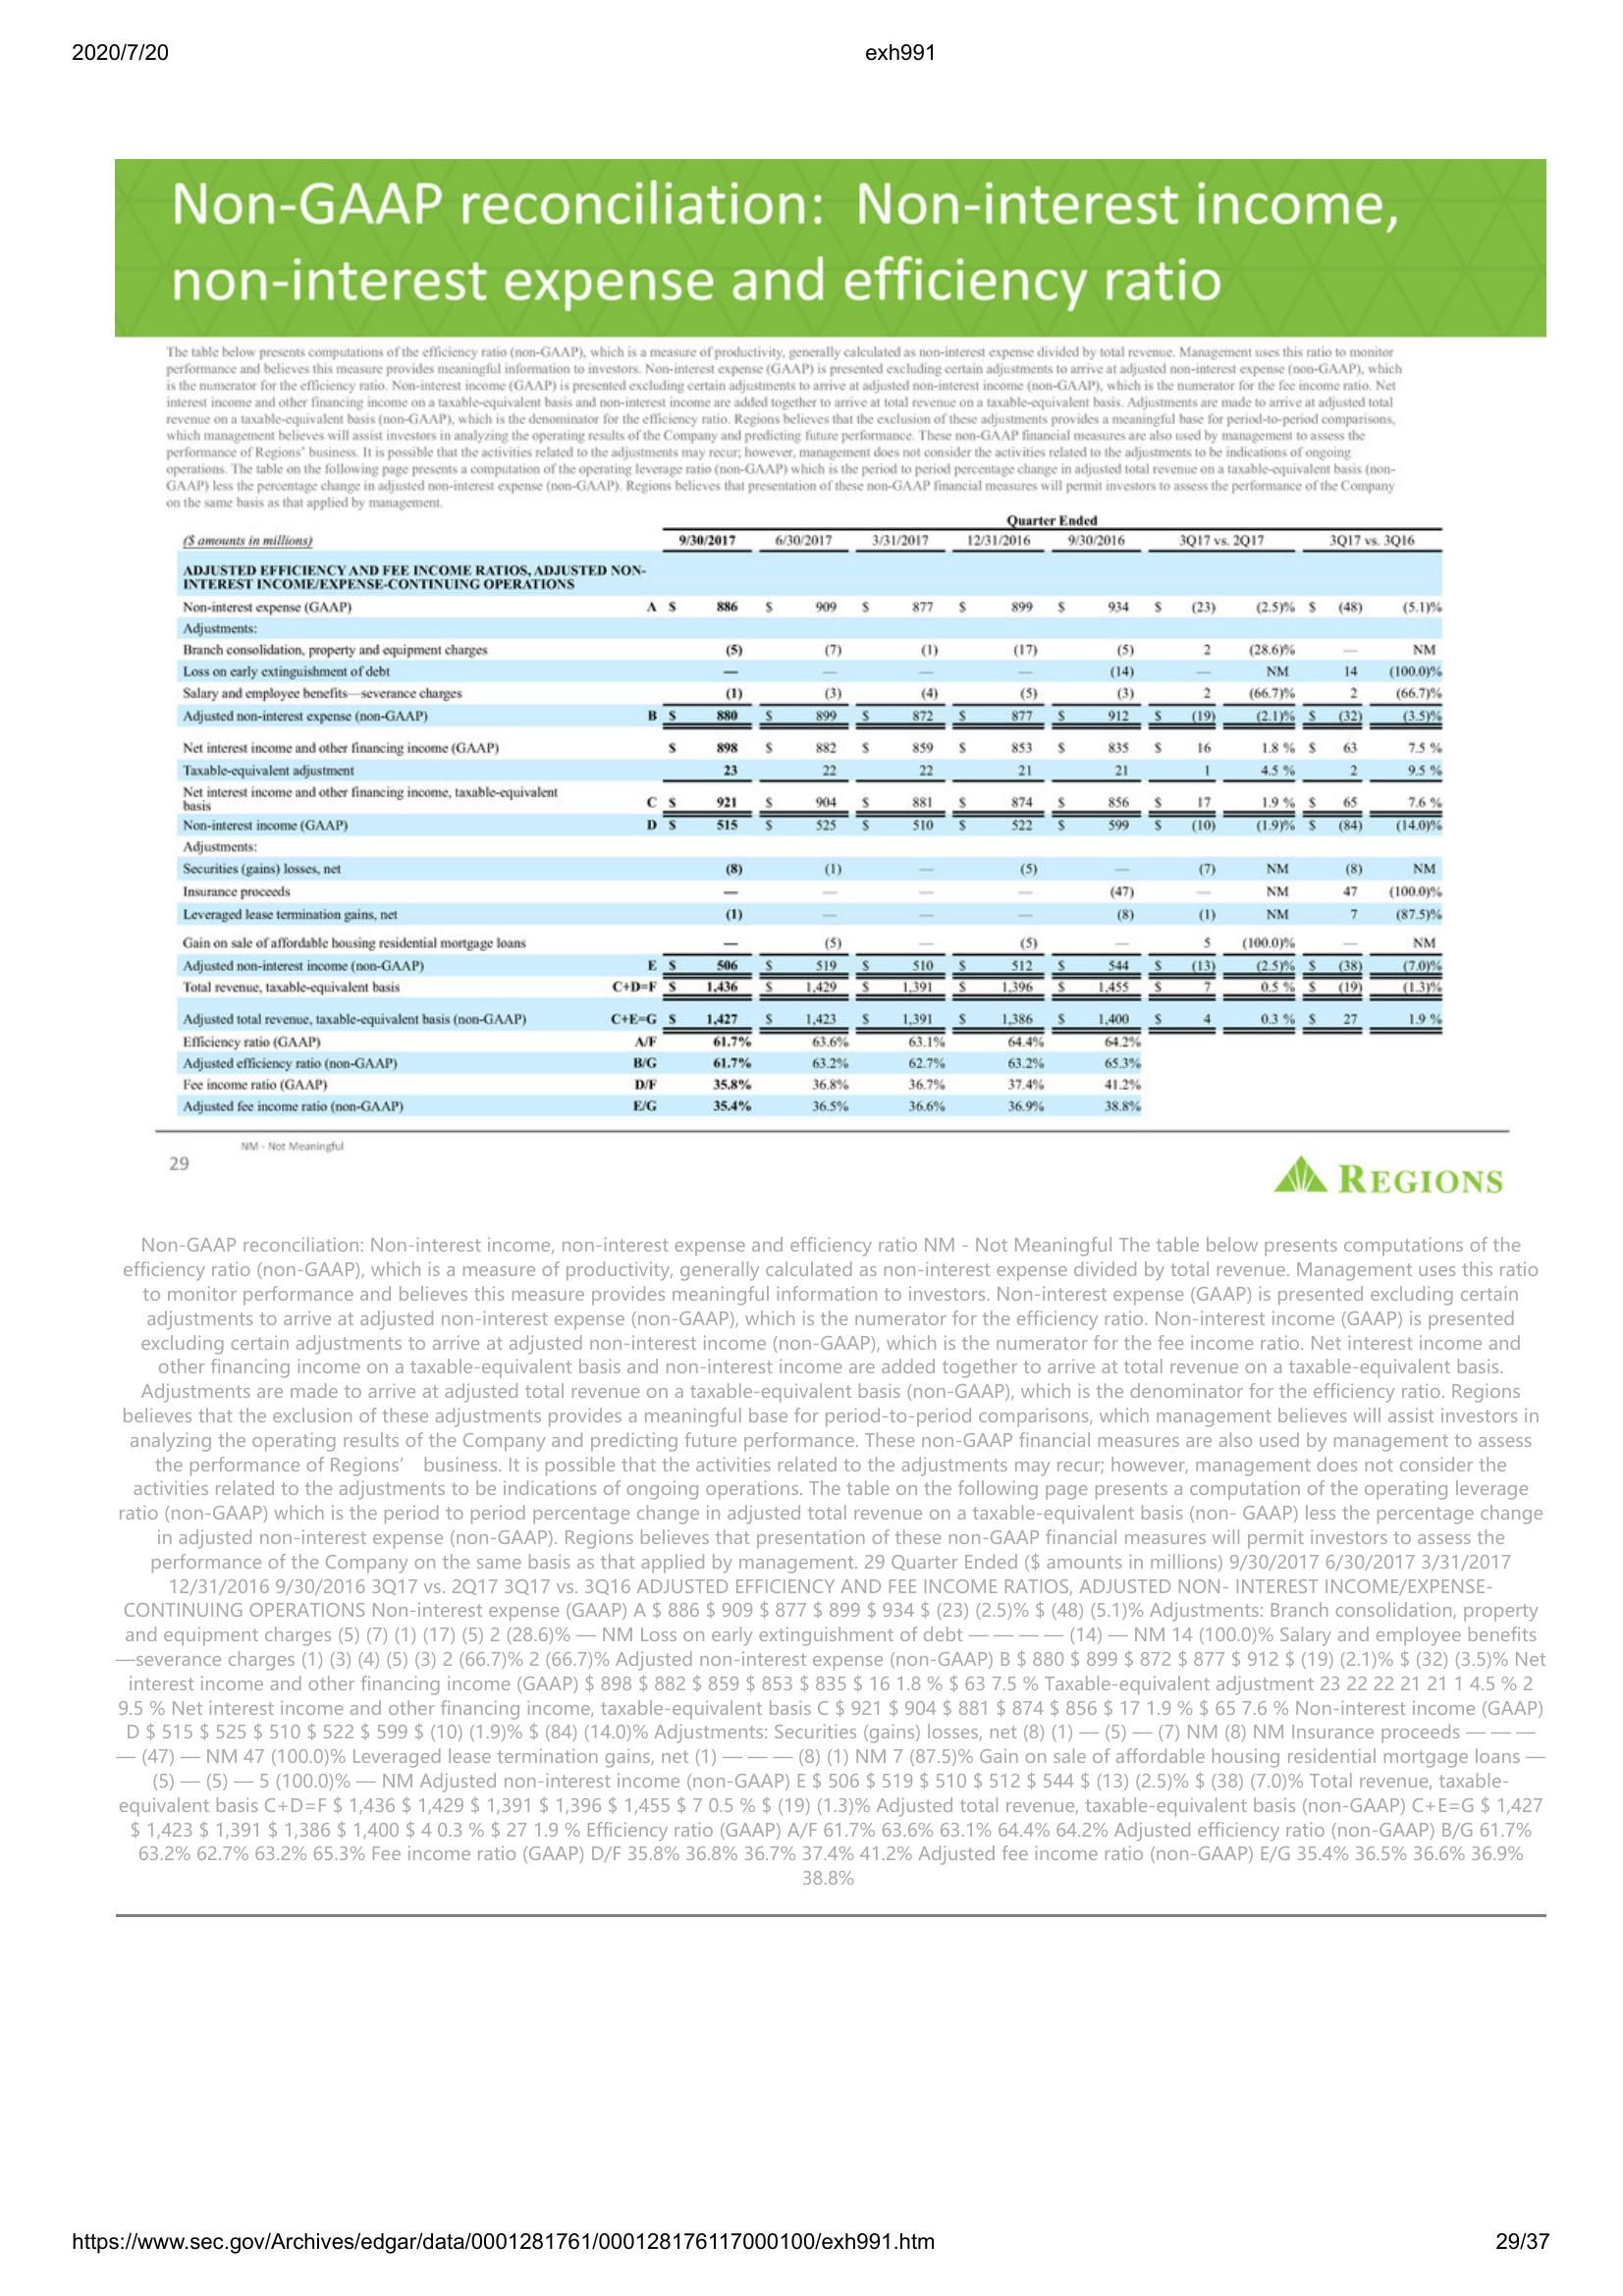table: (177, 506, 1453, 1115)
